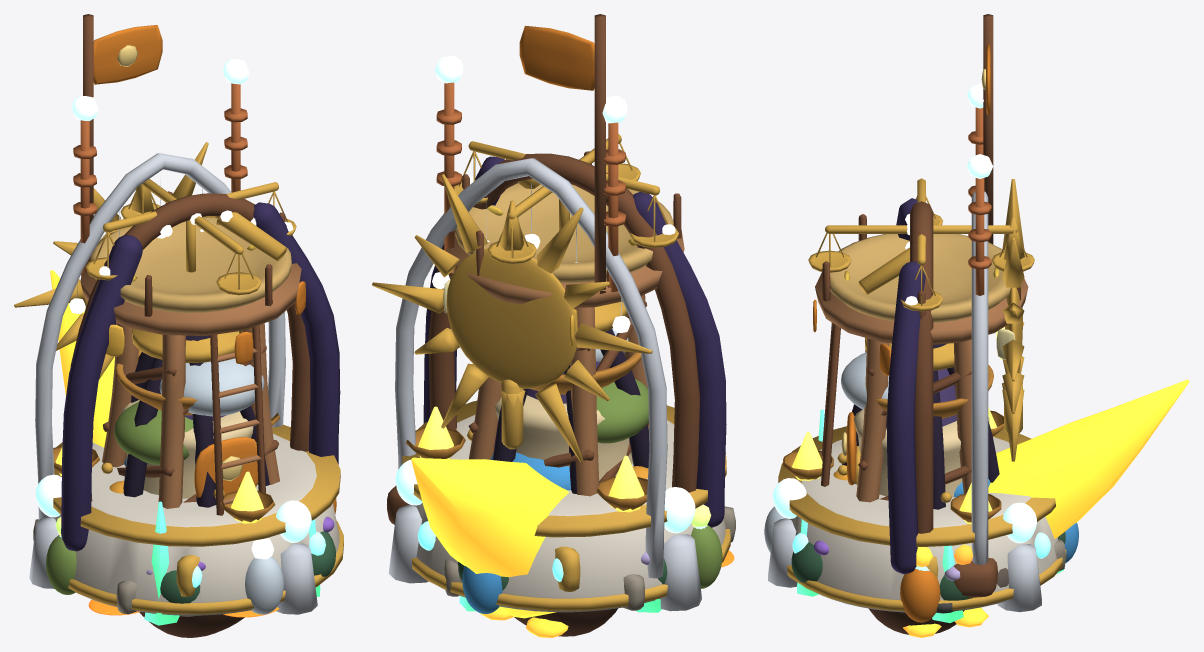
File: escudo_torres.glb
3 renders of one model, left to right at view 1: azimuth 30°, elevation 25°; view 2: azimuth 150°, elevation 25°; view 3: azimuth 270°, elevation 25°, orthographic. The views are drawn at different scales.
Visible parts, largest first — view 1: lara a velo -1, base3 tambor, base3 aro, unicornio a arco, grifo nido, grifo pata 0, lara a arco, grifo plataforma, grifo baranda 0, unicornio b pie 0, lara velo 0, grifo a aro -1 0 (+28 smaller); view 2: unicornio a arco, meteoro cola, aura a disco, aura a rayo 0, lara a arco, base3 tambor, lara a velo -1, base3 aro, grifo nido, grifo pata 0, unicornio b pie 0, grifo b bandera (+23 smaller); view 3: meteoro cola, base3 tambor, lara a velo -1, grifo nido, base3 aro, unicornio a arco, lara a arco, grifo pata 0, aura a rayo 0, unicornio b pie 0, grifo plataforma, grifo baranda 0 (+21 smaller).
Part boxes in pixels (x1=…): lara a velo -1: x1=61, y1=202, x2=340, y2=551; base3 tambor: x1=52, y1=434, x2=339, y2=615; base3 aro: x1=53, y1=424, x2=343, y2=614; unicornio a arco: x1=35, y1=153, x2=285, y2=519; grifo nido: x1=90, y1=217, x2=291, y2=312; grifo pata 0: x1=102, y1=323, x2=279, y2=508; lara a arco: x1=70, y1=193, x2=310, y2=501; grifo plataforma: x1=80, y1=263, x2=301, y2=335; grifo baranda 0: x1=89, y1=191, x2=285, y2=515; unicornio b pie 0: x1=29, y1=517, x2=317, y2=614; lara velo 0: x1=123, y1=337, x2=269, y2=507; grifo a aro -1 0: x1=73, y1=83, x2=247, y2=275; unicornio a arco: x1=395, y1=158, x2=667, y2=578; meteoro cola: x1=411, y1=457, x2=568, y2=618; aura a disco: x1=446, y1=247, x2=577, y2=388; aura a rayo 0: x1=372, y1=174, x2=652, y2=461; lara a arco: x1=428, y1=153, x2=700, y2=492; base3 tambor: x1=409, y1=414, x2=725, y2=612; lara a velo -1: x1=423, y1=156, x2=726, y2=527; base3 aro: x1=402, y1=400, x2=730, y2=610; grifo nido: x1=455, y1=183, x2=673, y2=283; grifo pata 0: x1=469, y1=294, x2=648, y2=496; unicornio b pie 0: x1=388, y1=505, x2=701, y2=611; grifo b bandera: x1=519, y1=25, x2=594, y2=90; meteoro cola: x1=988, y1=379, x2=1189, y2=539; base3 tambor: x1=785, y1=437, x2=1057, y2=612; lara a velo -1: x1=887, y1=198, x2=925, y2=574; grifo nido: x1=830, y1=234, x2=1010, y2=322; base3 aro: x1=778, y1=426, x2=1066, y2=611; unicornio a arco: x1=971, y1=191, x2=988, y2=564; lara a arco: x1=910, y1=201, x2=933, y2=533; grifo pata 0: x1=822, y1=323, x2=971, y2=502; aura a rayo 0: x1=1002, y1=179, x2=1024, y2=461; unicornio b pie 0: x1=768, y1=518, x2=1041, y2=612; grifo plataforma: x1=815, y1=272, x2=1028, y2=344; grifo baranda 0: x1=821, y1=214, x2=1020, y2=500.
Size of the model in its own units: 1.89 by 3.84 by 2.55.
